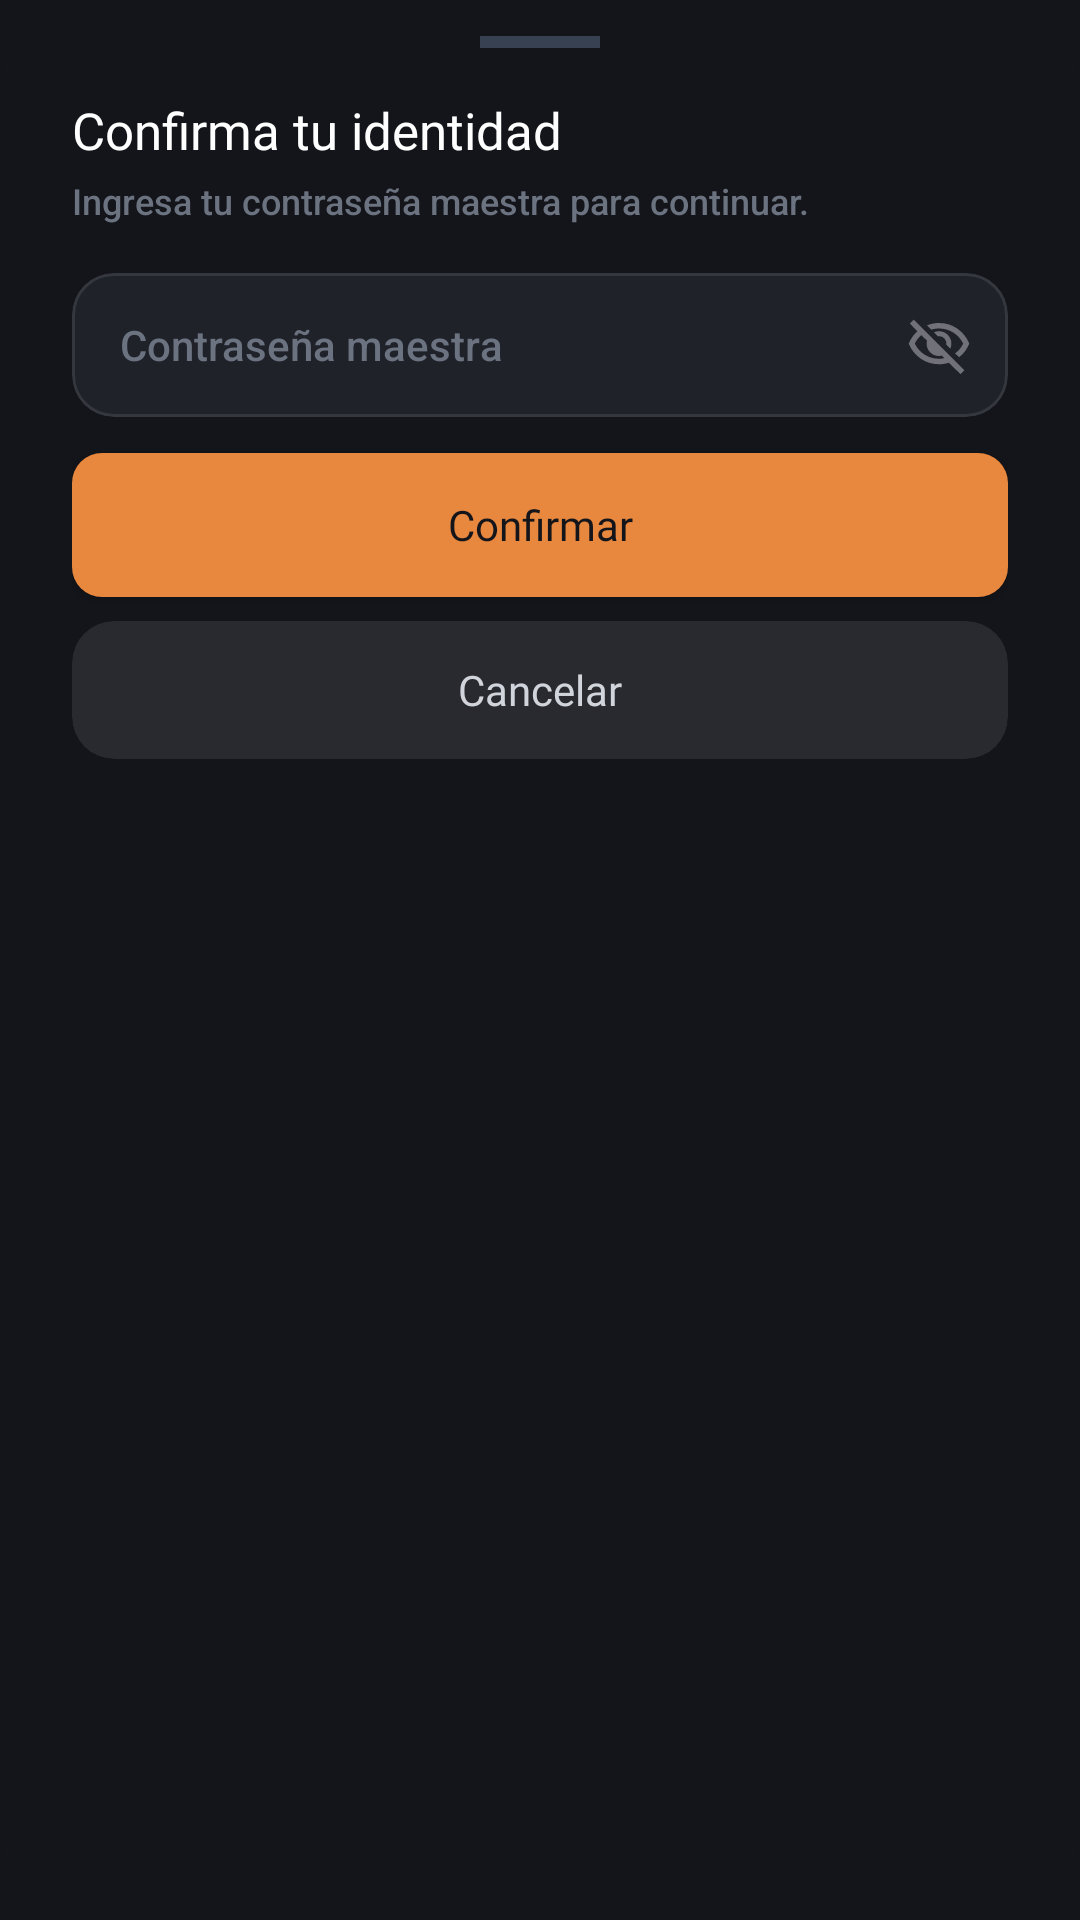

Icon bounding boxes for this 1080x1920 phone screenshot, format Rect(x1, y1, x2, y2):
Ver contraseña: Rect(909, 320, 969, 374)
